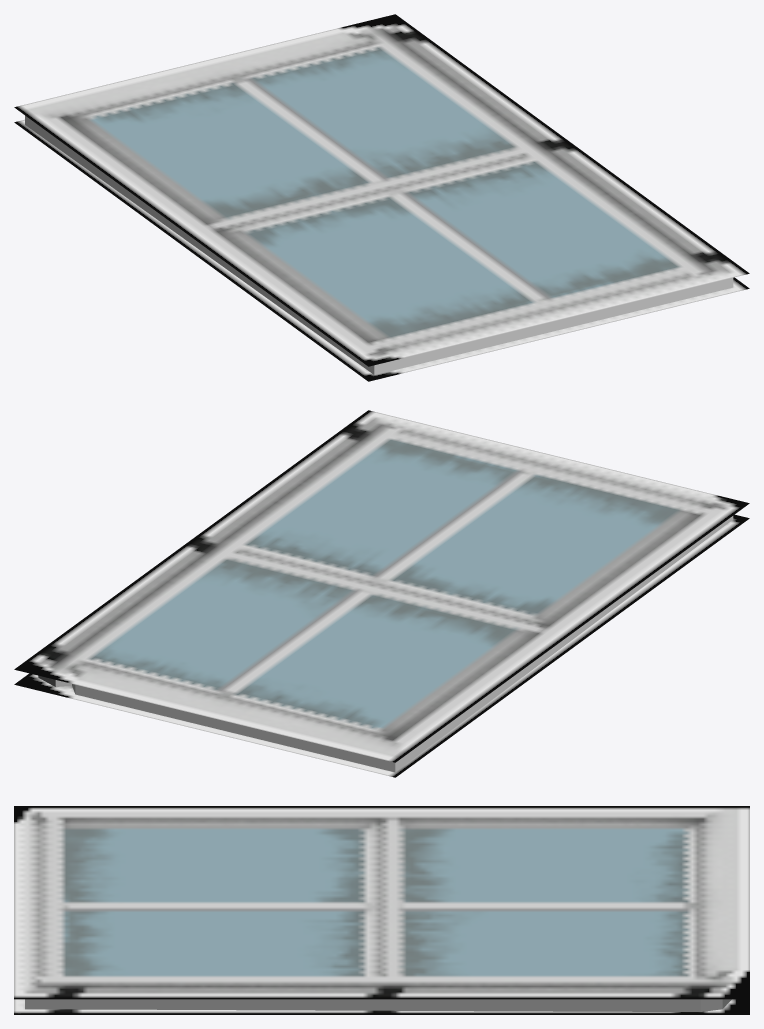
The model's file is pz_native_fixtures_windows_white_9_frame.obj.
3 views of the same model, one above another, from view 1: azimuth 30°, elevation 25°; view 2: azimuth 150°, elevation 25°; view 3: azimuth 270°, elevation 25° (orthographic). The views are drawn at different scales.
Visible parts, largest first — view 1: pz_native_fixtures_windows_white_9_frame; view 2: pz_native_fixtures_windows_white_9_frame; view 3: pz_native_fixtures_windows_white_9_frame.
Part boxes in pixels (x1,y1,x2,y2): pz_native_fixtures_windows_white_9_frame: (14,14,749,381); pz_native_fixtures_windows_white_9_frame: (14,410,749,777); pz_native_fixtures_windows_white_9_frame: (14,806,749,1014).
Size of the model in its own units: 1.06 by 0.04 by 1.71.
1 material, 1 textured.
